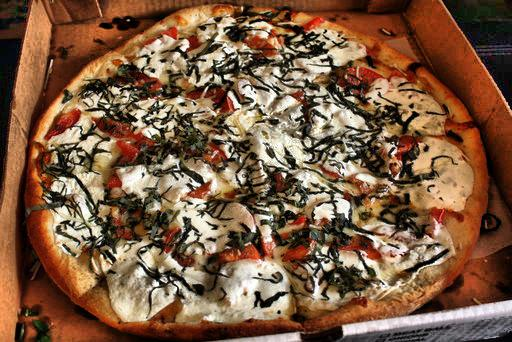pizza: (29, 14, 498, 327)
